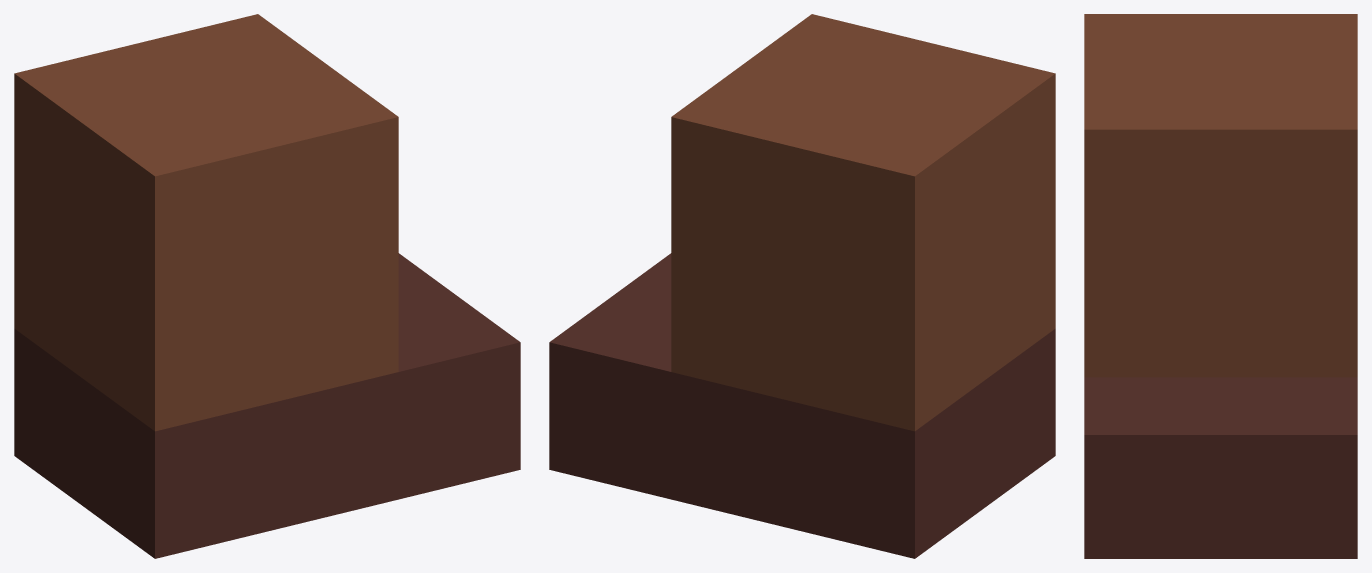
File: Leg.obj
3 views of the same model, side by side, from view 1: azimuth 30°, elevation 25°; view 2: azimuth 150°, elevation 25°; view 3: azimuth 270°, elevation 25° (orthographic). The views are drawn at different scales.
Size of the model in its own units: 3 by 3 by 2.
